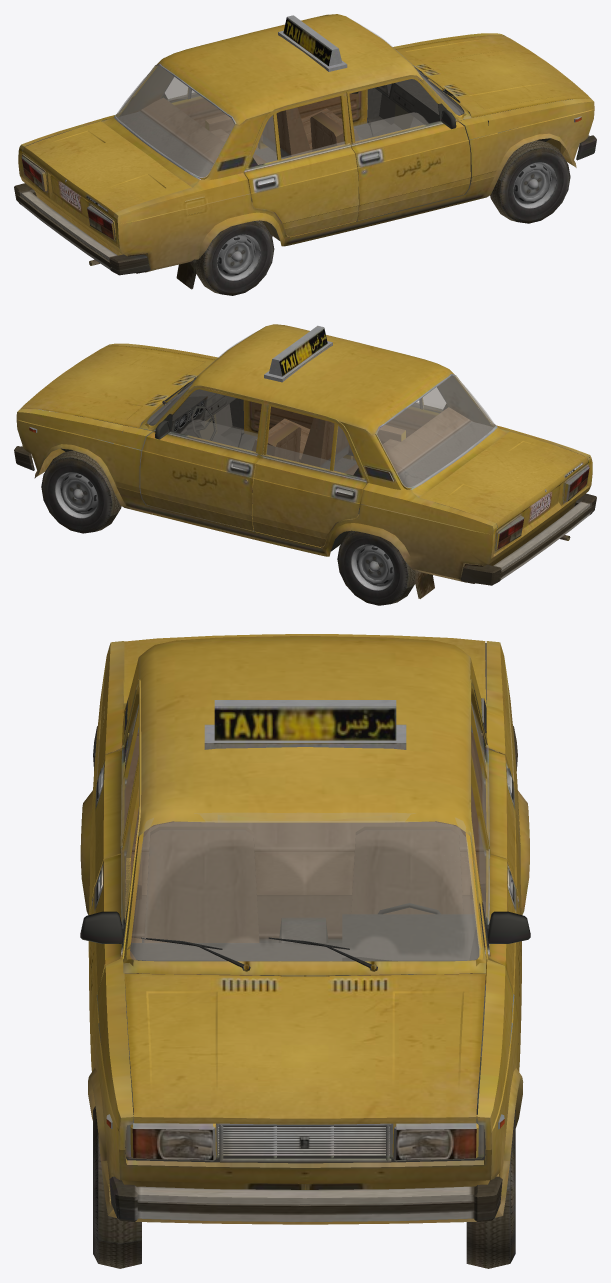
File: taxi.glb
3 renders of one model, top to bottom at view 1: azimuth 30°, elevation 25°; view 2: azimuth 150°, elevation 25°; view 3: azimuth 270°, elevation 25°, orthographic. The views are drawn at different scales.
Parts seen in each view (by area): view 1: hull, veh-interior, hatch2, hood, hullb, hatch4, hatch5, window, tire06, tire05, wheel, wheel3 (+6 smaller); view 2: hull, veh-interior, hatch, hood, hullb, hatch3, hatch5, window, tire01, tire, wheel2, wheel4 (+6 smaller); view 3: hull, hood, veh-interior, window, hullb, hatch, lens03, hatch2, hatch4, hatch3, tire06, tire01 (+1 smaller).
Part boxes in pixels (box(x1,y1,x2,y2)): hull: box(18, 14, 594, 273); veh-interior: box(21, 14, 488, 236); hatch2: box(346, 77, 470, 220); hood: box(395, 35, 590, 117); hullb: box(14, 14, 596, 289); hatch4: box(244, 93, 358, 237); hatch5: box(23, 121, 191, 217); window: box(116, 22, 463, 177); tire06: box(490, 140, 570, 223); tire05: box(196, 220, 274, 295); wheel: box(513, 162, 556, 208); wheel3: box(217, 234, 260, 280); hull: box(16, 324, 592, 583); veh-interior: box(122, 375, 589, 548); hatch: box(140, 387, 263, 531); hood: box(20, 346, 215, 428); hullb: box(14, 325, 596, 598); hatch3: box(252, 404, 366, 547); hatch5: box(419, 431, 587, 528); window: box(148, 333, 495, 487); tire01: box(41, 450, 121, 533); tire: box(337, 530, 415, 605); wheel2: box(55, 472, 98, 518); wheel4: box(351, 544, 394, 590); hull: box(80, 636, 529, 1224); hood: box(124, 974, 485, 1124); veh-interior: box(117, 643, 494, 1163); window: box(130, 704, 480, 961); hullb: box(93, 660, 517, 1221); hatch: box(470, 757, 530, 1066); lens03: box(106, 1119, 504, 1160); hatch2: box(80, 760, 141, 1066); hatch4: box(88, 685, 141, 957); hatch3: box(470, 684, 521, 955); tire06: box(93, 1106, 141, 1268); tire01: box(466, 1110, 515, 1268).
Bounding box in the file's own units: 4.67 × 1.77 × 1.85.
Materials: 7 (7 with a texture image).
